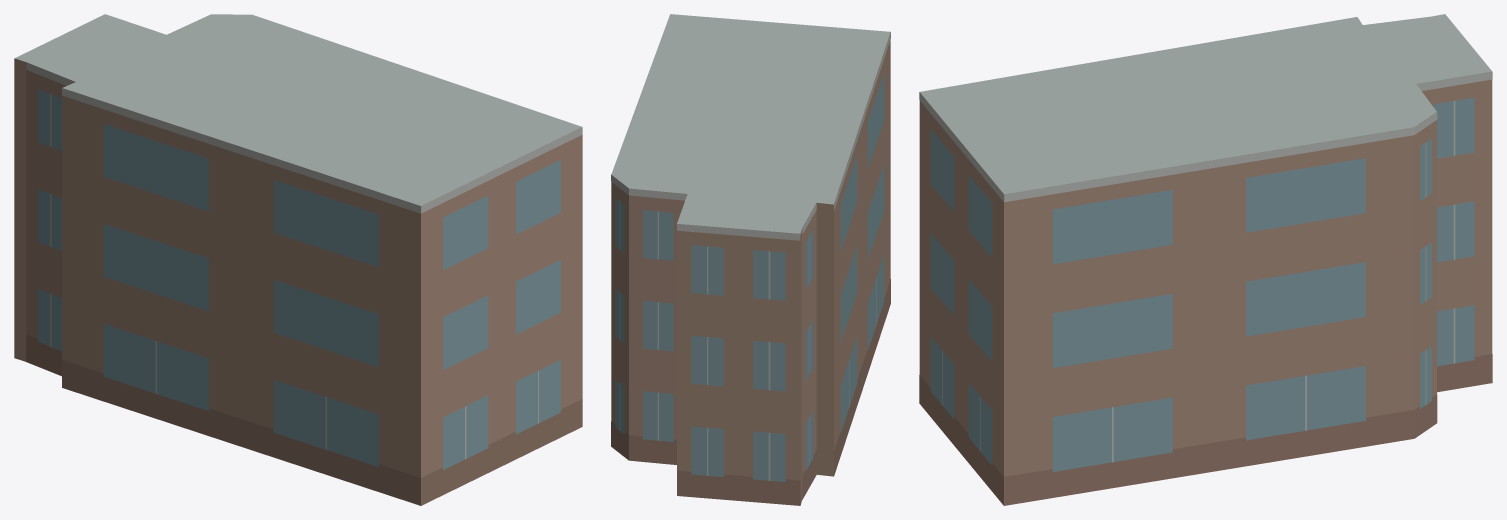
Rendered from survey-upis-32751505.glb.
The picture shows the model from 3 angles, left to right: view 1: azimuth 30°, elevation 25°; view 2: azimuth 150°, elevation 25°; view 3: azimuth 270°, elevation 25°; orthographic projection. The views are drawn at different scales.
Visible parts, largest first — view 1: survey-upis-32751505.tmp; view 2: survey-upis-32751505.tmp; view 3: survey-upis-32751505.tmp.
Part boxes in pixels (left/top/right/bottom): survey-upis-32751505.tmp: left=14, top=14, right=582, bottom=505; survey-upis-32751505.tmp: left=611, top=14, right=890, bottom=505; survey-upis-32751505.tmp: left=919, top=14, right=1492, bottom=505.
Bounding box in the file's own units: 11.93 × 9.6 × 16.02.
